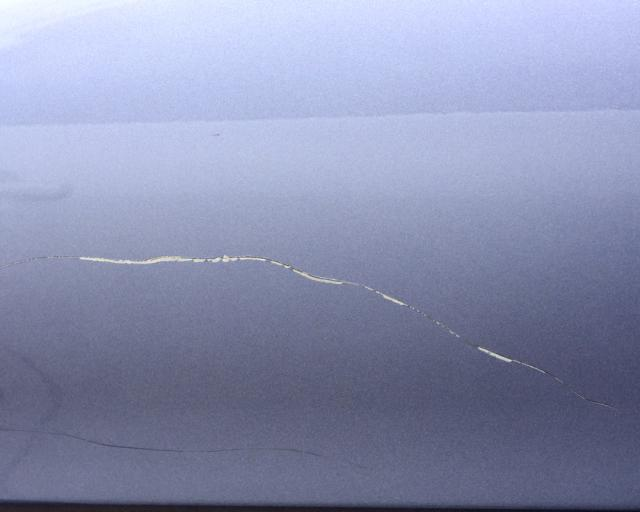scratch: (0, 252, 629, 422), (0, 426, 331, 462)
